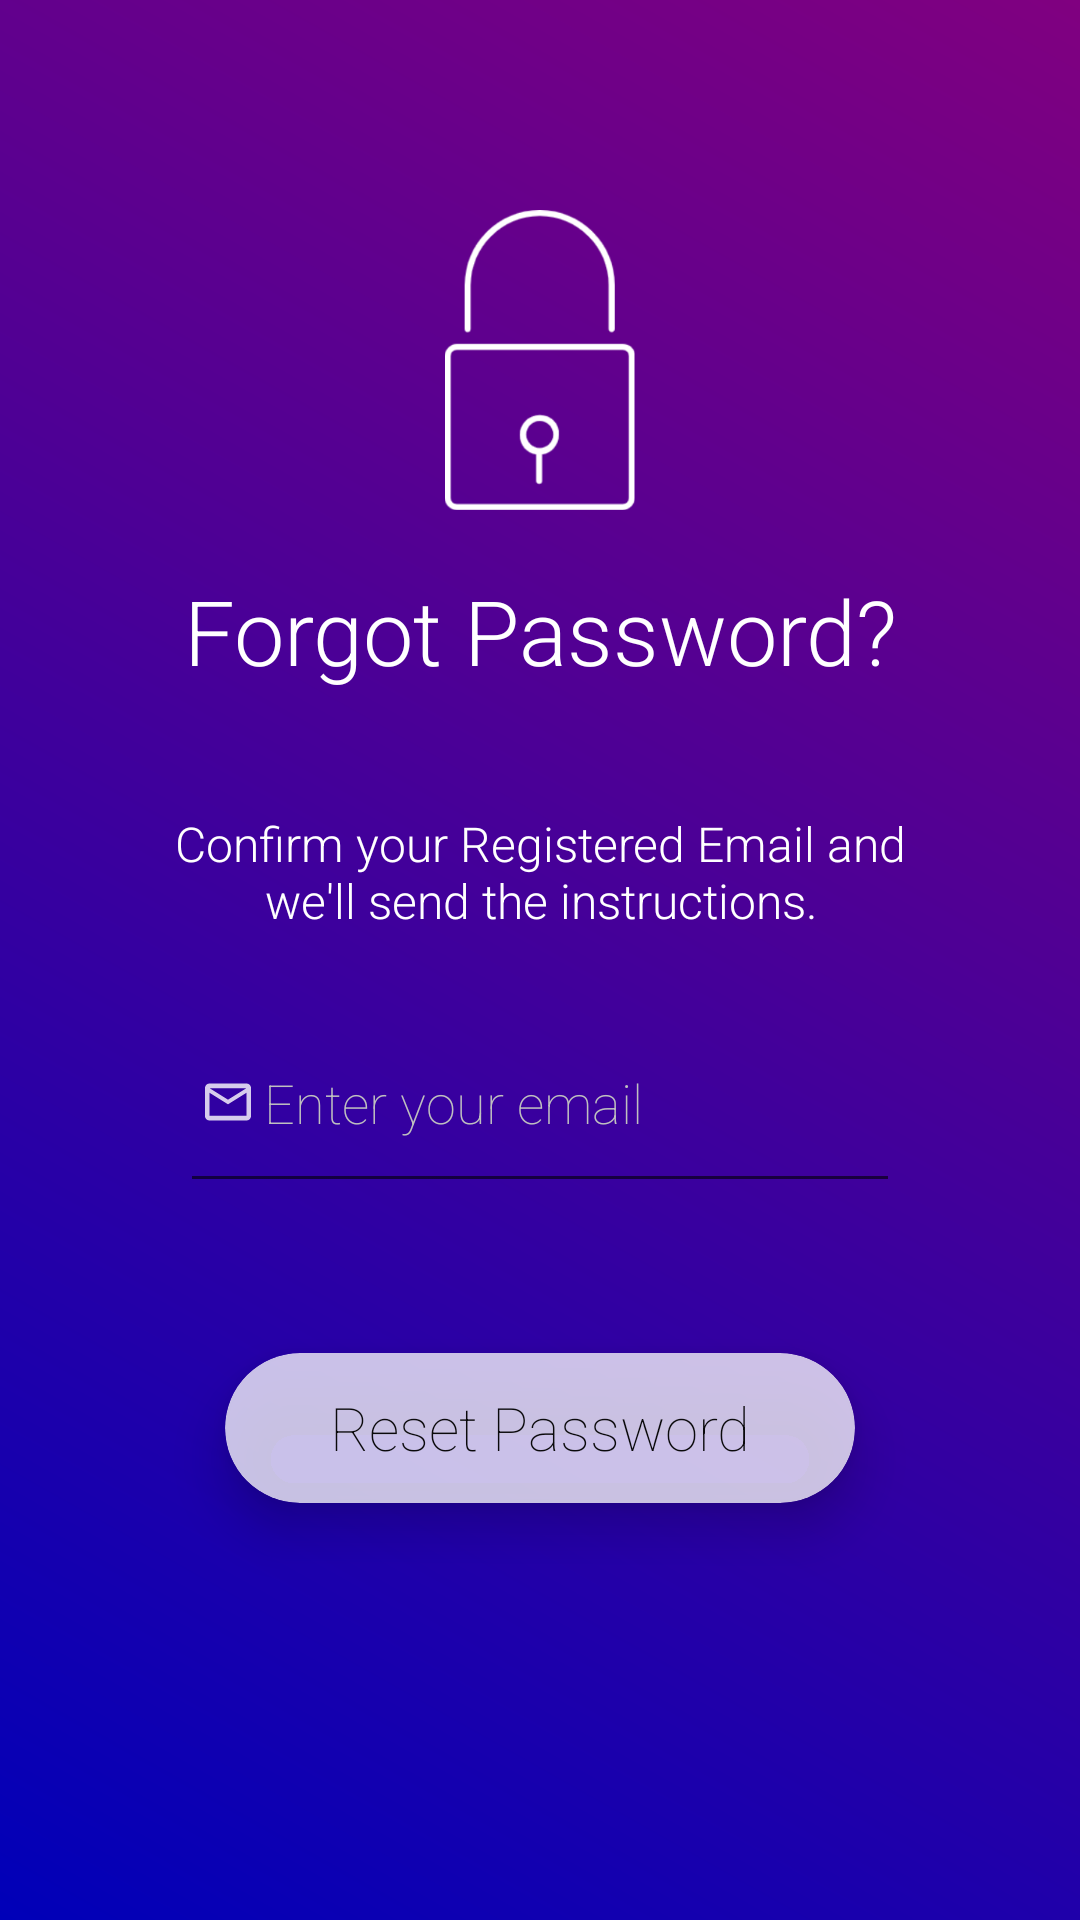

Named icons in this screenshot (1080w x 1920h) and their bounding boxes, (x1, y1, x2, y2):
lock: (445, 210, 635, 510)
